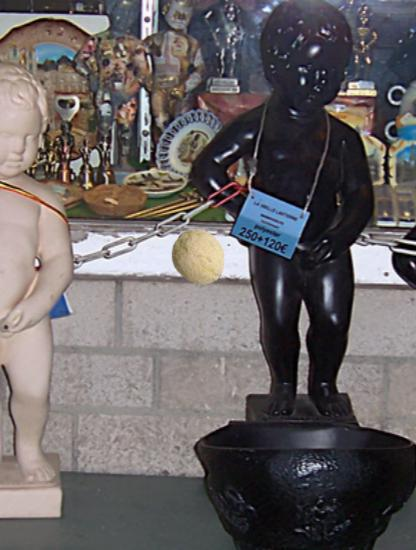Cantaloupe: (170, 228, 229, 287)
